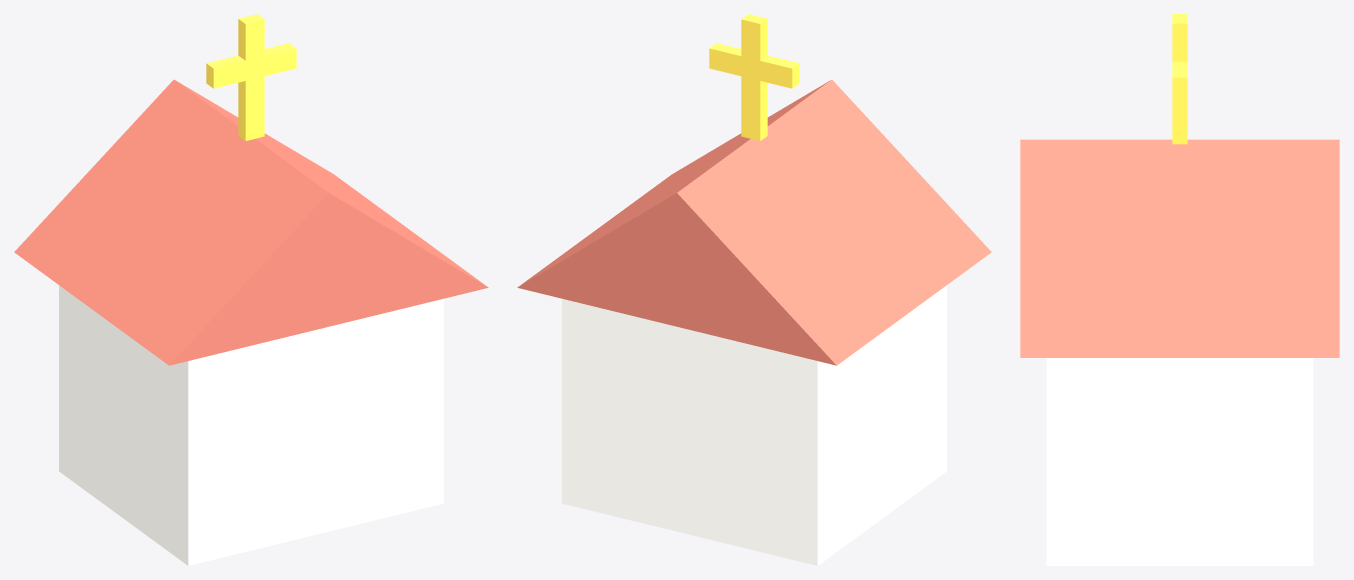
File: capela.glb
3 renders of one model, left to right at view 1: azimuth 30°, elevation 25°; view 2: azimuth 150°, elevation 25°; view 3: azimuth 270°, elevation 25°, orthographic. The views are drawn at different scales.
Parts seen in each view (by area): view 1: capela; view 2: capela; view 3: capela.
Part boxes in pixels (x1,y1,x2,y2): capela: [14, 14, 488, 565]; capela: [517, 14, 991, 565]; capela: [1020, 14, 1339, 565].
Size of the model in its own units: 1 by 1.4 by 0.84.
